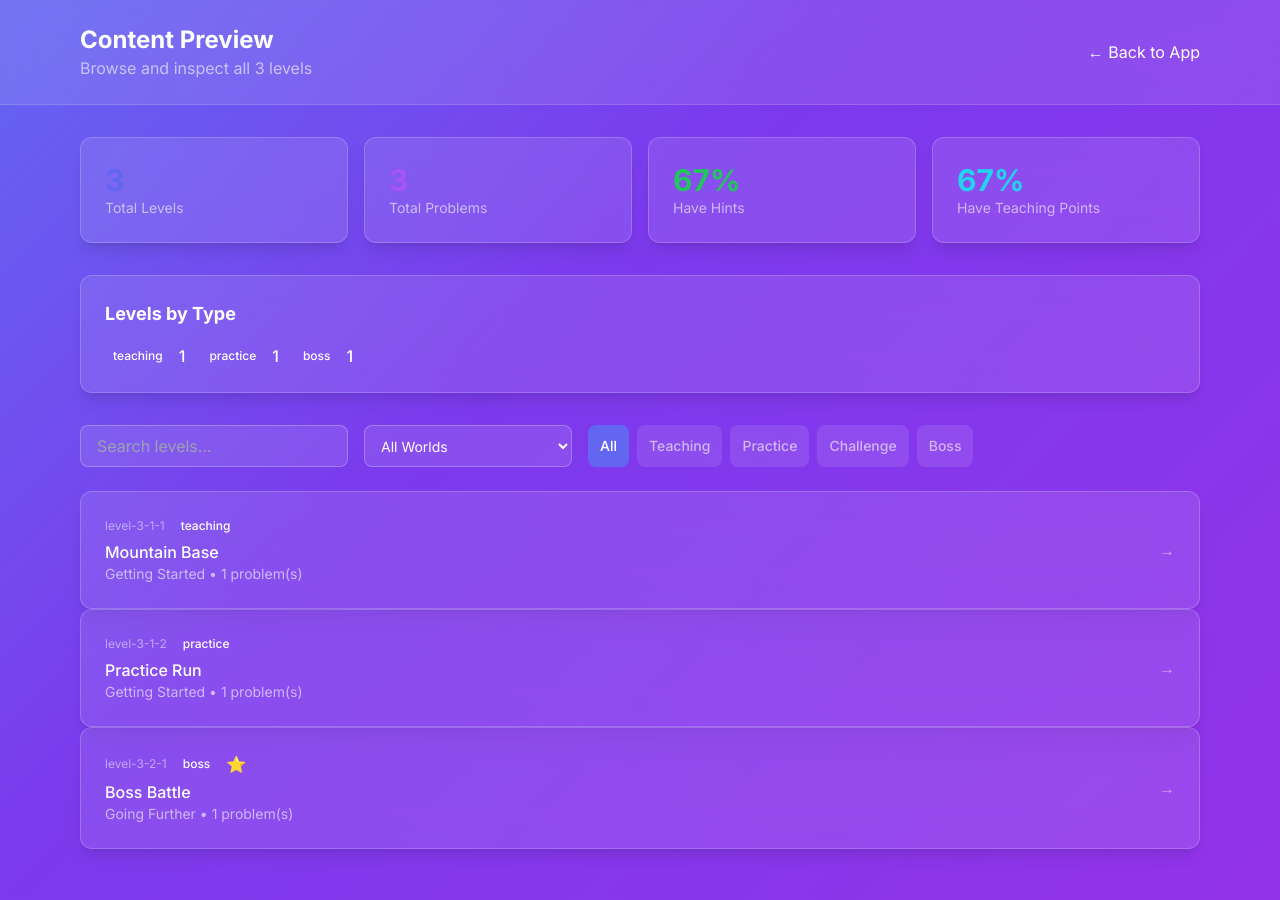
Test: AdminPage › should filter by type when button clicked
Click the button "Boss" at coordinates (945, 446), box x1=917 y1=425 x2=973 y2=467
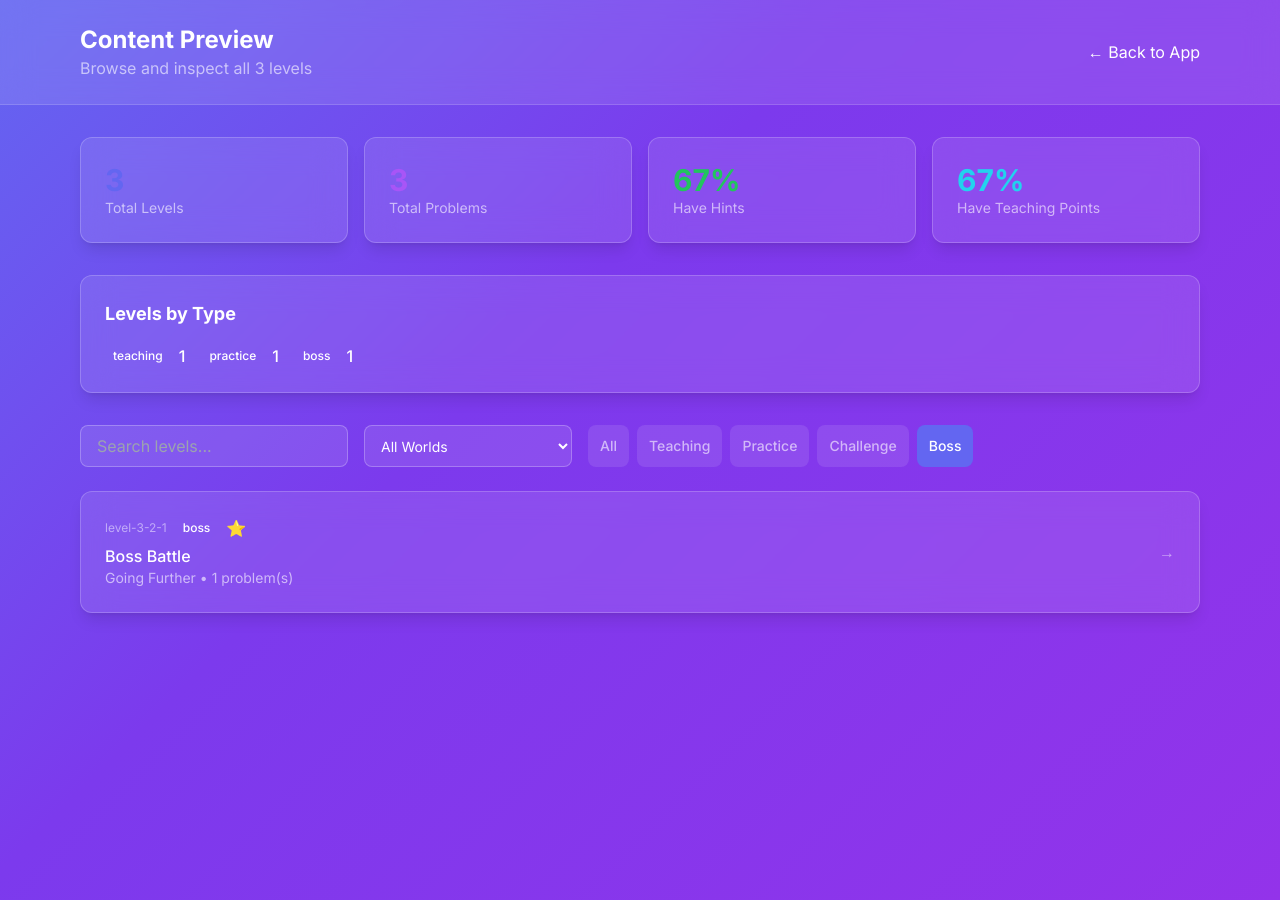
Expected: the heading "Boss Battle" is shown, x1=105 y1=546 x2=190 y2=566
Result: the link "Mountain Base" is gone
Result: the link "Practice Run" is gone
